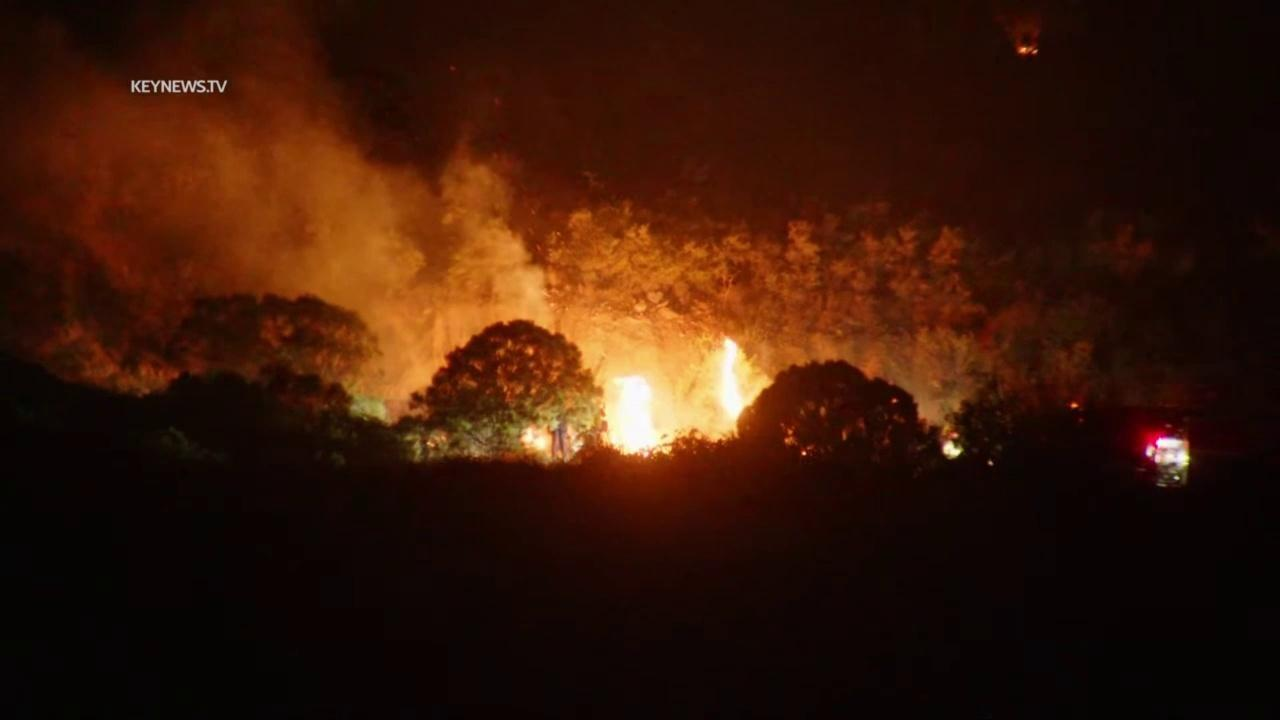fire: (600, 371, 669, 462), (713, 336, 751, 422), (519, 426, 549, 455), (1012, 46, 1041, 56), (946, 428, 962, 441), (1068, 401, 1081, 411), (890, 396, 901, 407), (799, 448, 809, 458)
smoke: (0, 0, 567, 403), (990, 1, 1050, 47)
